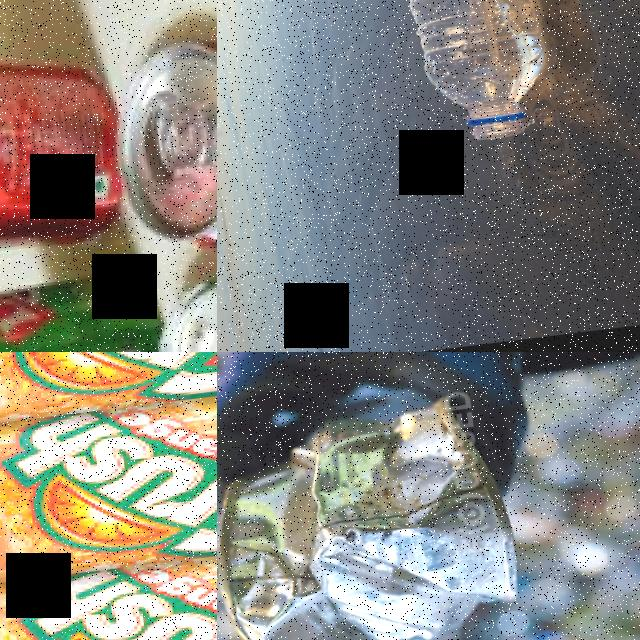bottle: (385, 0, 565, 149)
can: (0, 371, 217, 598), (0, 7, 133, 278), (0, 526, 217, 640), (0, 352, 217, 439), (0, 265, 178, 352)
